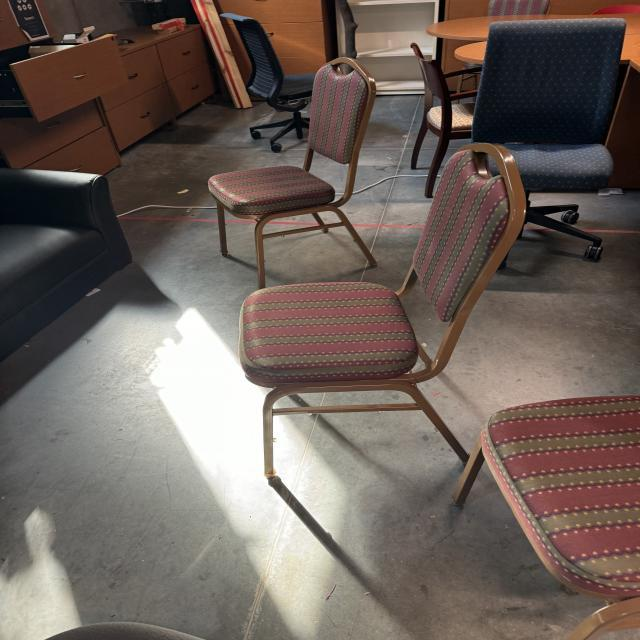chair: (235, 138, 520, 490), (204, 54, 388, 286)
